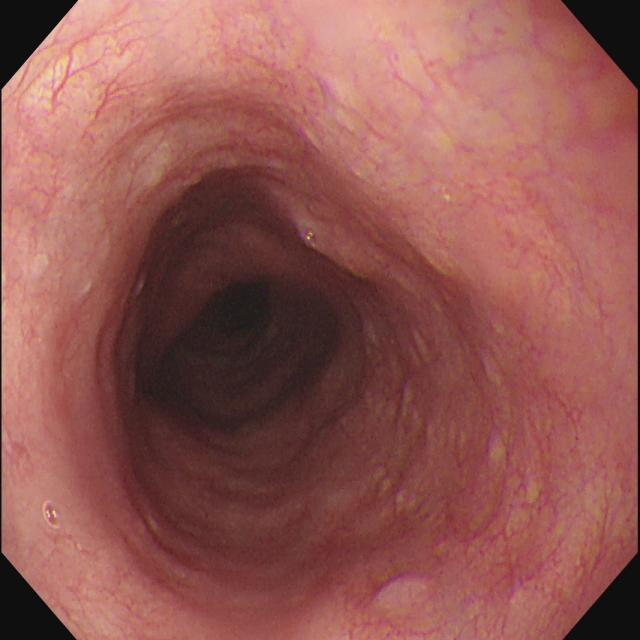E: (159, 259, 336, 428)
T: (45, 502, 66, 535), (302, 230, 316, 245)
